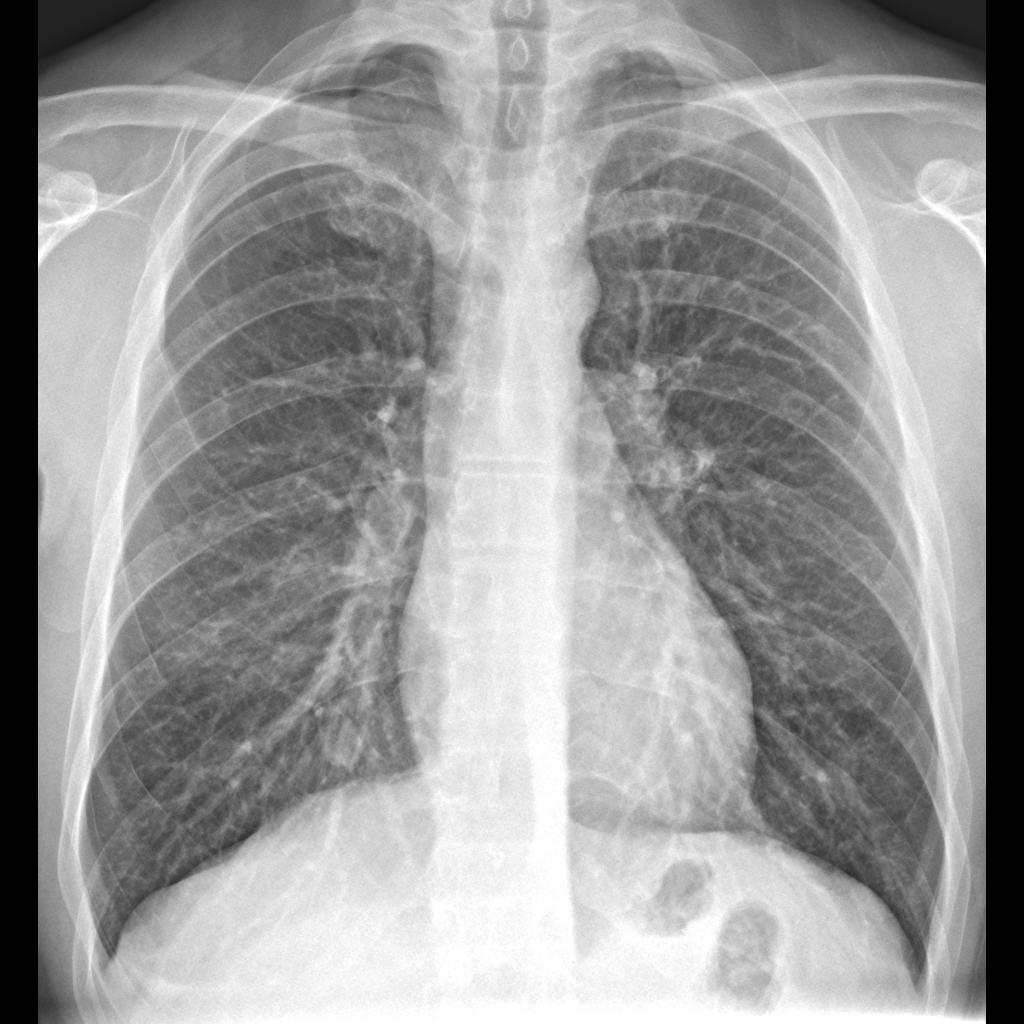Nodule: (319, 714, 370, 780)
